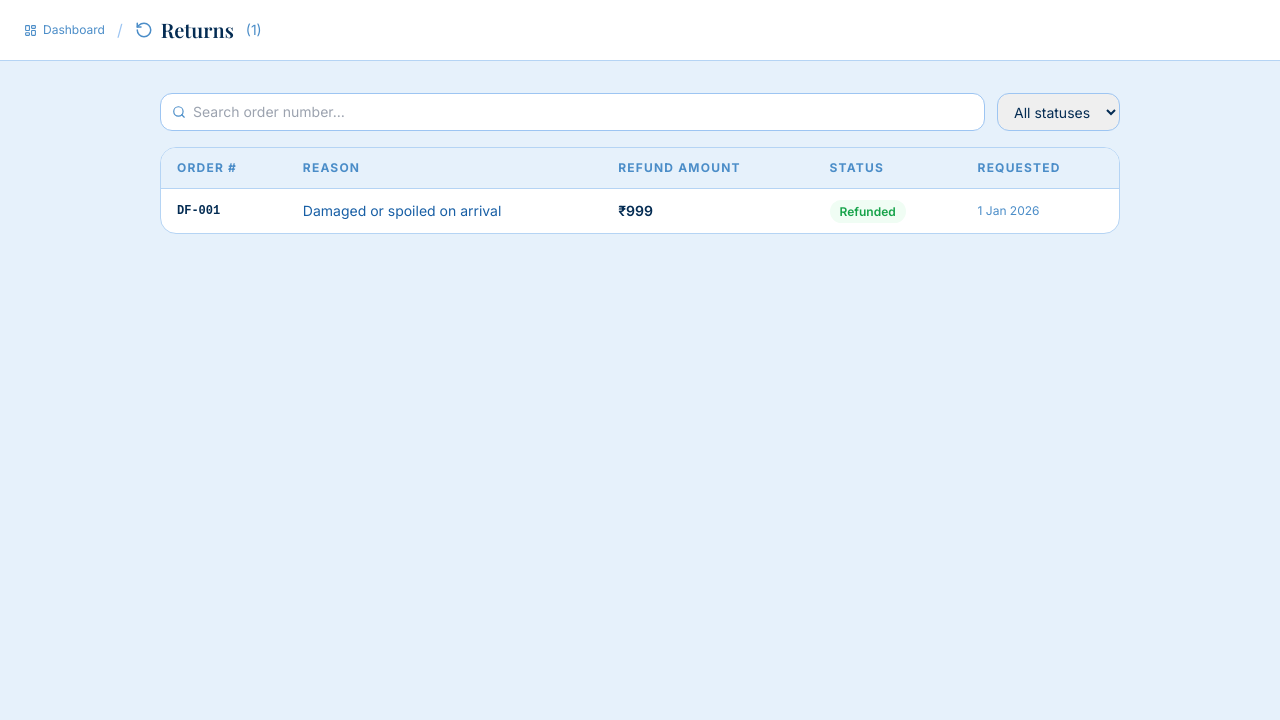
it: AdminReturnsPage › hides approve/reject actions for an already-resolved return
The width and height of the screenshot is (1280, 720).
Click the text "DF-001": (199, 211) [161,188,287,233]
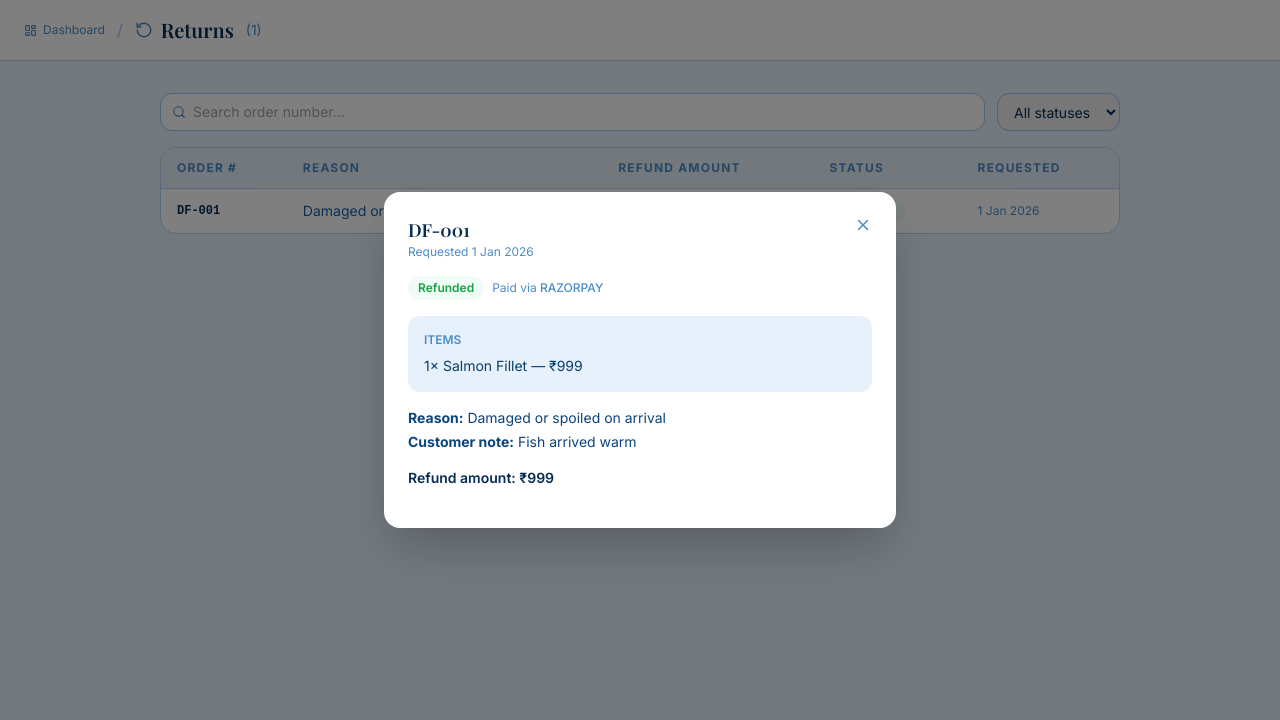
Now the list item "1× Salmon Fillet — ₹999" is shown, box [424,357,583,374]
